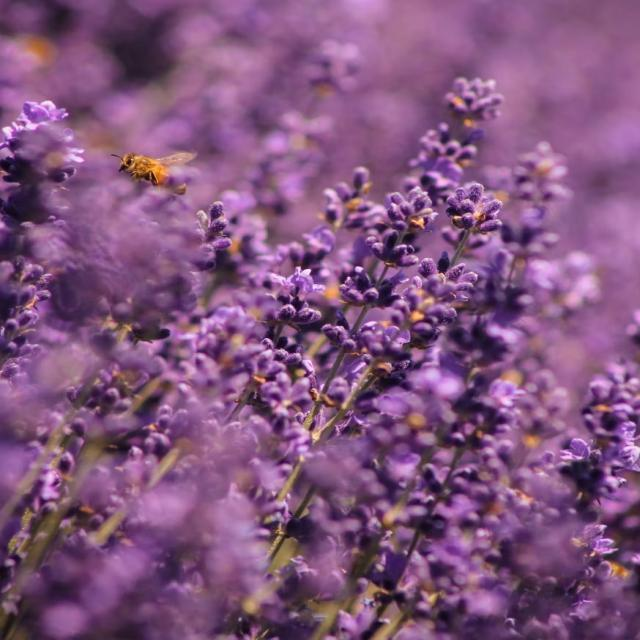bees: (108, 146, 196, 197)
